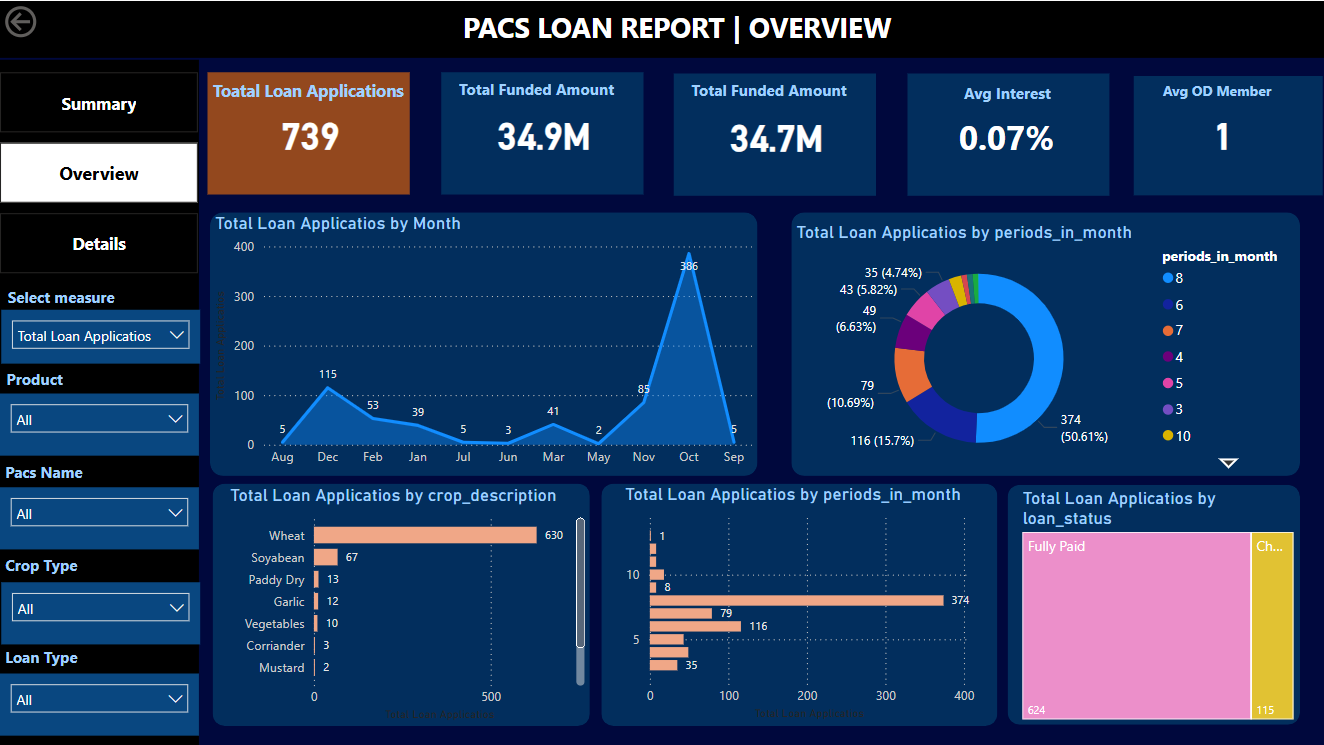

The dashboard page shown, as its layout file describes it:
{"tool":"powerbi","page":{"name":"Overview","canvas":[1280,720],"ordinal":1},"visuals":[{"type":"shape","box":[0,57.1,192.2,663.2],"z":0},{"type":"shape","box":[0,0,1281.7,54.9],"z":1000},{"type":"textbox","box":[441.9,2.7,477.5,49.4],"z":2000},{"type":"actionButton","box":[0,0,100,40],"z":3000},{"type":"shape","box":[200.3,68.6,195.4,118],"z":3000,"group":"g1"},{"type":"shape","box":[425.4,68.6,195.4,118],"z":3000,"group":"g2"},{"type":"shape","box":[650.4,70,195.4,118],"z":3000,"group":"g3"},{"type":"shape","box":[875.5,70,194.9,118],"z":3000,"group":"g4"},{"type":"shape","box":[1093.7,71.9,182.5,115.3],"z":3000,"group":"g5"},{"type":"group","id":"g1","title":"Group 1","box":[200.3,68.6,225,118],"z":4000},{"type":"card","fields":{"Values":["agri_loan_data.Total loan Applicatios"]},"box":[225.3,97.2,148,60.5],"z":4000,"group":"g1"},{"type":"card","fields":{"Values":["agri_loan_data.Total Funded Amount"]},"box":[450.4,97.2,148,60.5],"z":4000,"group":"g2"},{"type":"card","fields":{"Values":["agri_loan_data.MTD Loan Applications"]},"box":[1105.2,97.7,148,60.5],"z":4000,"group":"g5"},{"type":"card","fields":{"Values":["agri_loan_data.Total Amount Received"]},"box":[675.4,98.6,148,60.5],"z":4000,"group":"g3"},{"type":"group","id":"g2","title":"Group 1","box":[425.4,68.6,225,118],"z":5000},{"type":"textbox","box":[200.7,69.7,224.7,37.1],"z":6000,"group":"g1"},{"type":"textbox","box":[425.8,69.7,224.7,37.1],"z":6000,"group":"g2"},{"type":"textbox","box":[650.8,71.1,224.7,37.1],"z":6000,"group":"g3"},{"type":"textbox","box":[1117,72.1,156.4,31.6],"z":6000,"group":"g5"},{"type":"textbox","box":[925.5,73.3,112.5,31.6],"z":6000,"group":"g4"},{"type":"textbox","box":[0,617.7,113.4,31.4],"z":6000},{"type":"textbox","box":[0,529.6,112.2,31.4],"z":7000},{"type":"textbox","box":[0,439.1,112.2,38.6],"z":8000},{"type":"group","id":"g3","title":"Group 1","box":[650.4,70,225,118],"z":9000},{"type":"shape","box":[202.7,203.9,528.4,254.6],"z":10000},{"type":"group","id":"g4","title":"Group 1","box":[875.5,70,194.9,118],"z":11000},{"type":"group","id":"g5","title":"Group 1","box":[1093.7,71.9,182.5,115.3],"z":12000},{"type":"textbox","box":[920.5,105,123.1,62.7],"z":13000},{"type":"slicer","fields":{"Values":["agri_loan_data.member_address"]},"box":[0,469.3,191.8,60.3],"z":14000},{"type":"slicer","fields":{"Values":["agri_loan_data.crop_description"]},"box":[1.2,561,191.8,60.3],"z":15000},{"type":"slicer","fields":{"Values":["agri_loan_data.loan_type"]},"box":[0,649.1,191.8,60.3],"z":16000},{"type":"slicer","fields":{"Values":["agri_loan_data.product_description"]},"box":[0,378.8,191.8,60.3],"z":17000},{"type":"textbox","box":[1.2,349.9,112.2,38.6],"z":18000},{"type":"areaChart","fields":{"Y":["agri_loan_data.Total Loan Applicatios"],"Category":["Date Table.Month"]},"box":[202.7,203.9,528.4,254.6],"z":19000},{"type":"slicer","fields":{"Values":["Select Measure.Select Measure"]},"box":[1.2,298,191.8,51.9],"z":20000},{"type":"textbox","box":[2.4,270.2,178.6,38.6],"z":21000},{"type":"pageNavigator","box":[0,68.8,191.8,194.2],"z":22000},{"type":"shape","box":[763.7,203.9,491,254.6],"z":23000},{"type":"donutChart","fields":{"Y":["agri_loan_data.Total Loan Applicatios"],"Category":["agri_loan_data.periods_in_month"]},"box":[763.7,212.3,489.8,246.1],"z":24000},{"type":"shape","box":[205.1,465.7,364.3,234],"z":25000},{"type":"barChart","fields":{"Y":["agri_loan_data.Total Loan Applicatios"],"Category":["agri_loan_data.crop_description"]},"box":[217.2,466.9,352.3,232.8],"z":26000},{"type":"shape","box":[580.3,465.7,382.4,234],"z":27000},{"type":"barChart","fields":{"Y":["agri_loan_data.Total Loan Applicatios"],"Category":["agri_loan_data.periods_in_month"]},"box":[598.4,465.7,352.3,232.8],"z":28000},{"type":"shape","box":[972.4,466.9,282.3,231.6],"z":29000},{"type":"treemap","fields":{"Values":["agri_loan_data.Total Loan Applicatios"],"Group":["agri_loan_data.loan_status"]},"box":[982,469.3,271.4,229.2],"z":30000}]}

Visuals, with their boxes in screenshot pixels (x1, y1, x2, y2), scaled from the page's 1280x720 canvas onto the 1324x745 screenshot:
shape: 0, 59, 199, 744
shape: 0, 0, 1323, 57
textbox: 457, 3, 951, 54
actionButton: 0, 0, 103, 41
shape: 207, 71, 409, 193
shape: 440, 71, 642, 193
shape: 673, 72, 875, 195
shape: 906, 72, 1107, 195
shape: 1131, 74, 1320, 194
"Group 1" group: 207, 71, 440, 193
card - agri_loan_data.Total loan Applicatios: 233, 101, 386, 163
card - agri_loan_data.Total Funded Amount: 466, 101, 619, 163
card - agri_loan_data.MTD Loan Applications: 1143, 101, 1296, 164
card - agri_loan_data.Total Amount Received: 699, 102, 852, 165
"Group 1" group: 440, 71, 673, 193
textbox: 208, 72, 440, 111
textbox: 440, 72, 673, 111
textbox: 673, 74, 906, 112
textbox: 1155, 75, 1317, 107
textbox: 957, 76, 1074, 109
textbox: 0, 639, 117, 672
textbox: 0, 548, 116, 580
textbox: 0, 454, 116, 494
"Group 1" group: 673, 72, 905, 195
shape: 210, 211, 756, 474
"Group 1" group: 906, 72, 1107, 195
"Group 1" group: 1131, 74, 1320, 194
textbox: 952, 109, 1079, 174
slicer - agri_loan_data.member_address: 0, 486, 198, 548
slicer - agri_loan_data.crop_description: 1, 580, 200, 643
slicer - agri_loan_data.loan_type: 0, 672, 198, 734
slicer - agri_loan_data.product_description: 0, 392, 198, 454
textbox: 1, 362, 117, 402
areaChart - agri_loan_data.Total Loan Applicatios x Date Table.Month: 210, 211, 756, 474
slicer - Select Measure.Select Measure: 1, 308, 200, 362
textbox: 2, 280, 187, 320
pageNavigator: 0, 71, 198, 272
shape: 790, 211, 1298, 474
donutChart - agri_loan_data.Total Loan Applicatios x agri_loan_data.periods_in_month: 790, 220, 1297, 474
shape: 212, 482, 589, 724
barChart - agri_loan_data.Total Loan Applicatios x agri_loan_data.crop_description: 225, 483, 589, 724
shape: 600, 482, 996, 724
barChart - agri_loan_data.Total Loan Applicatios x agri_loan_data.periods_in_month: 619, 482, 983, 723
shape: 1006, 483, 1298, 723
treemap - agri_loan_data.Total Loan Applicatios x agri_loan_data.loan_status: 1016, 486, 1296, 723
